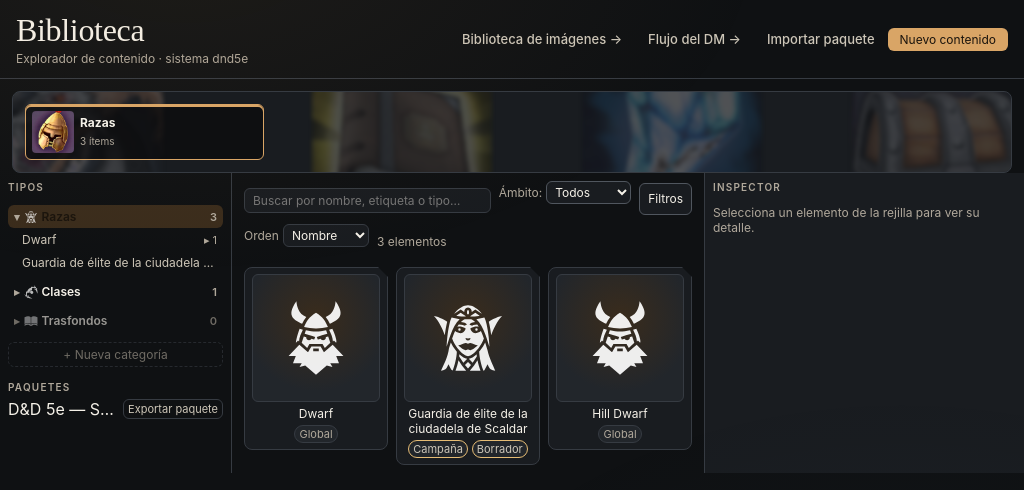
Test case: Explorador de Biblioteca real (PMB-4.2) › filtra por búsqueda y ámbito con estado vacío recuperable
expect the button "▾ Razas 3" is shown: met, box [8,205,223,228]
Búsqueda sin resultados → estado honesto + limpiar.
In the field labelled "Buscar por nombre, etiqueta o tipo…": (367, 200) [244,188,491,213], type "zzz"
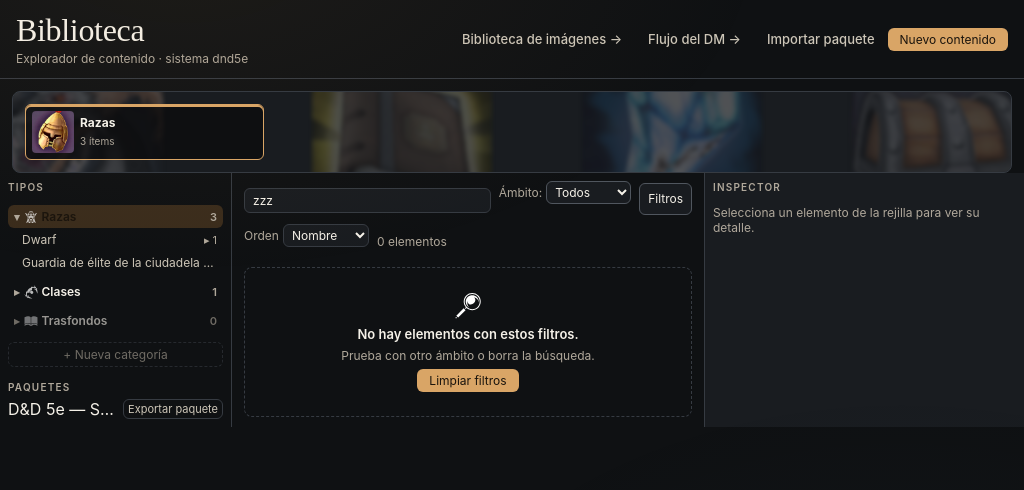
expect the text "0 elementos" is shown: met, box [377,234,447,249]
expect the text "No hay elementos con estos filtros." is shown: met, box [357,326,579,342]
Click the button "Limpiar filtros": (468, 380) [417,369,519,392]
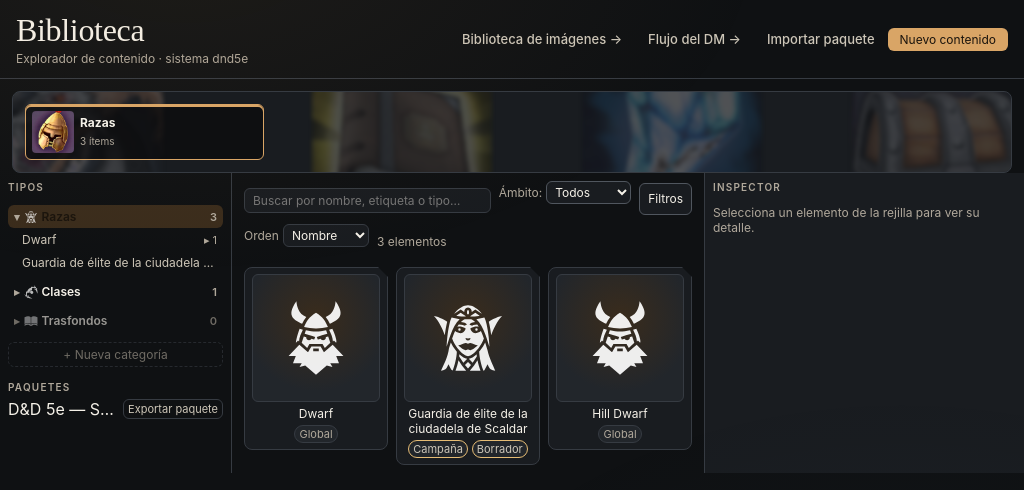
expect the text "3 elementos" is shown: met, box [377,234,446,249]
Ámbito «DM»: el SRD es global y el homebrew es de campaña → 0.
Select "DM" in the dropdown labelled "Ámbito:": (589, 192) [546,181,631,204]
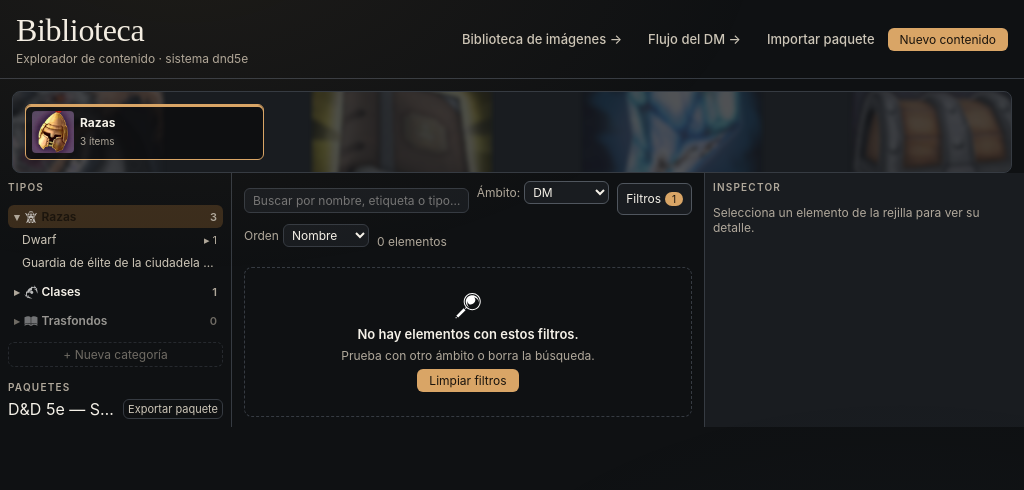
expect the text "0 elementos" is shown: met, box [377,234,447,249]
Click the button "Limpiar filtros": (468, 380) [417,369,519,392]
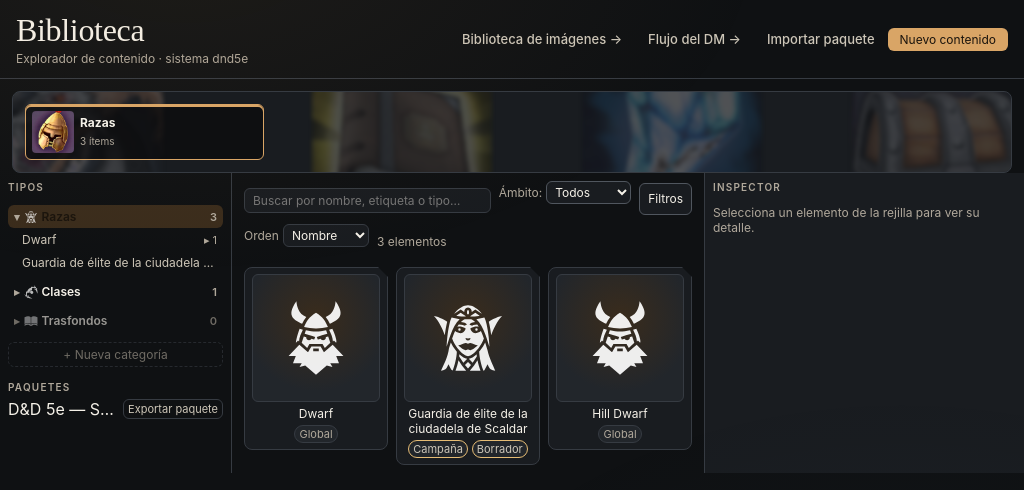
expect the text "3 elementos" is shown: met, box [377,234,446,249]
